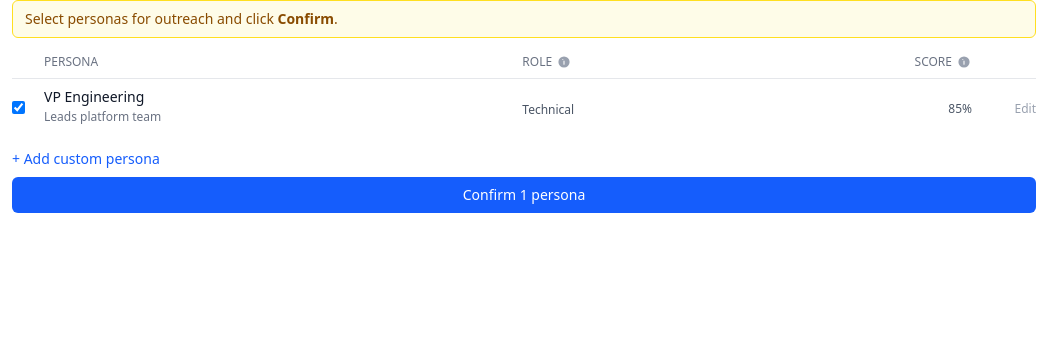
PersonaTable › HITL mode › allows adding a custom persona
Click the button "+ Add custom persona" at {"x": 86, "y": 159}, box top-left (12, 149), bottom-right (160, 169)
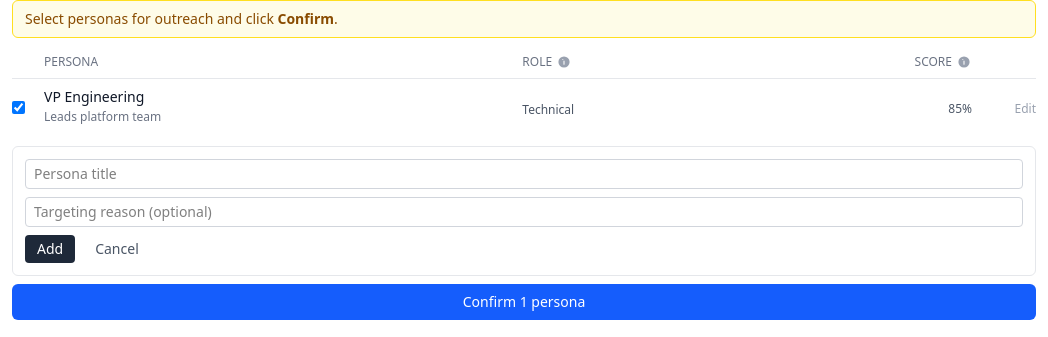
Check: the field named "New persona title" is shown, box top-left (25, 159), bottom-right (1023, 189)
